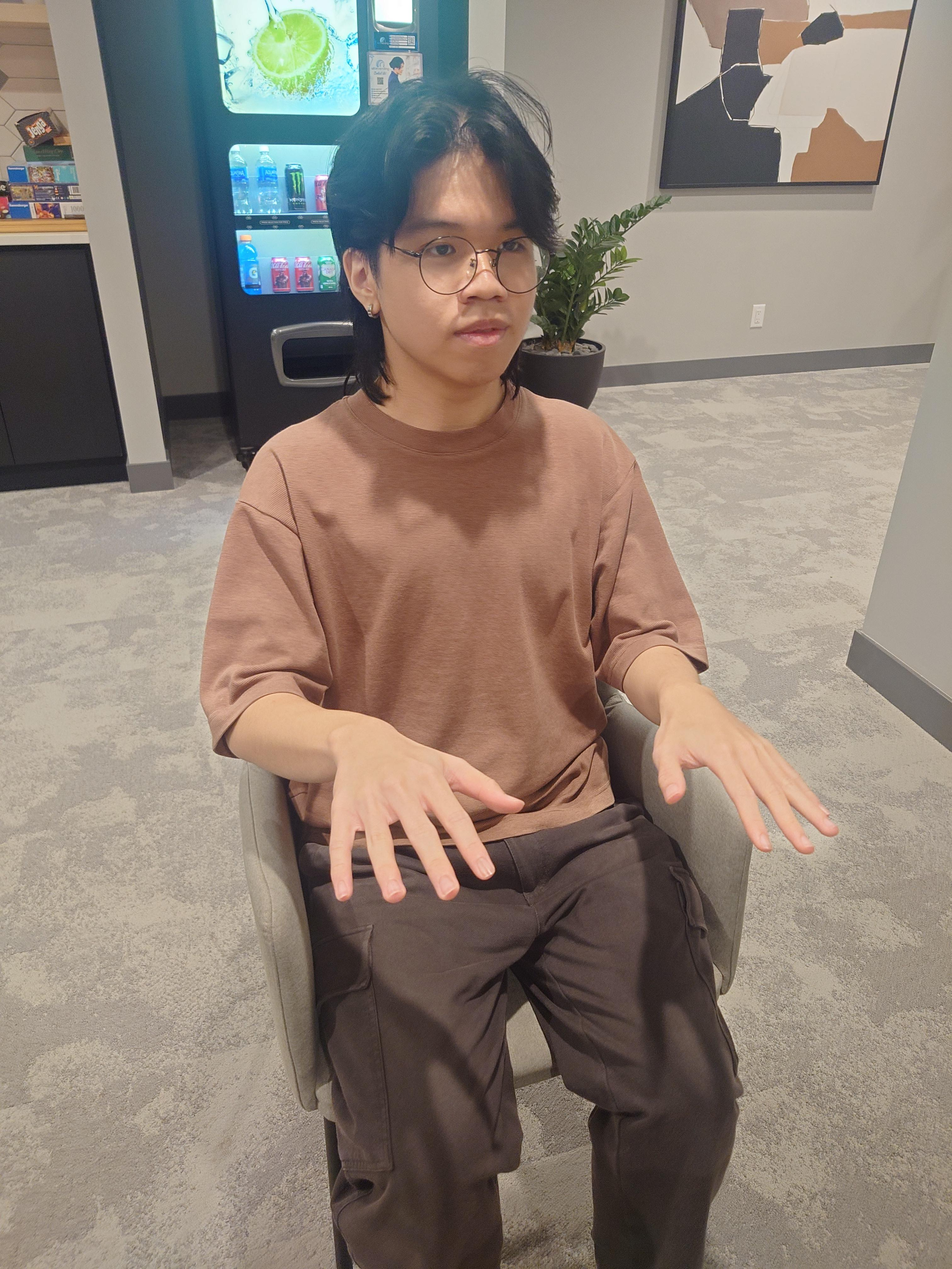GoodPosture: (198, 74, 842, 1269)
